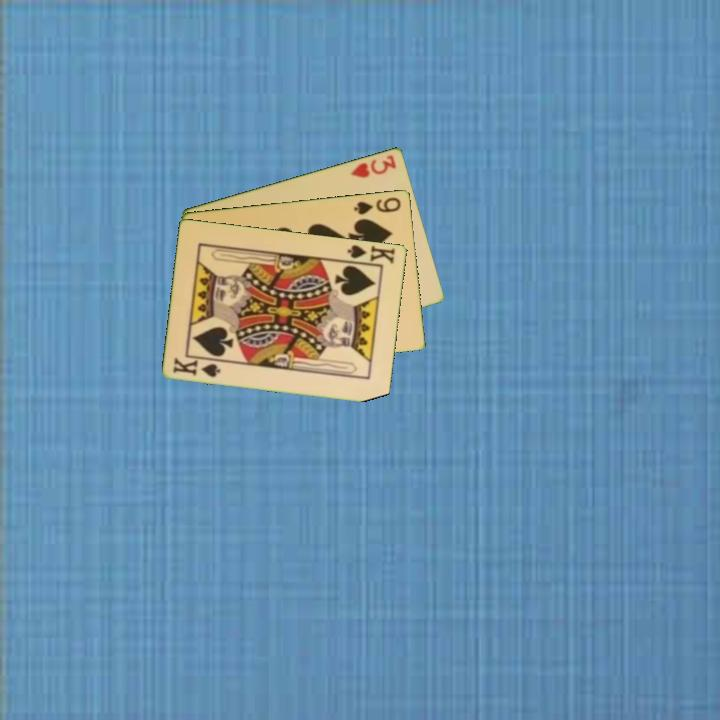3h: (347, 151, 399, 180)
9s: (350, 193, 404, 217)
Ks: (170, 353, 224, 380), (344, 241, 398, 266)
